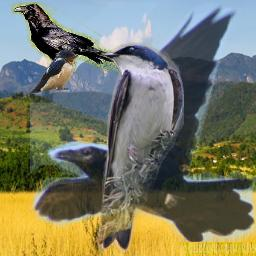Crow: (30, 3, 256, 242), (11, 2, 125, 72)
Swallow: (94, 42, 184, 252), (27, 49, 78, 94)
